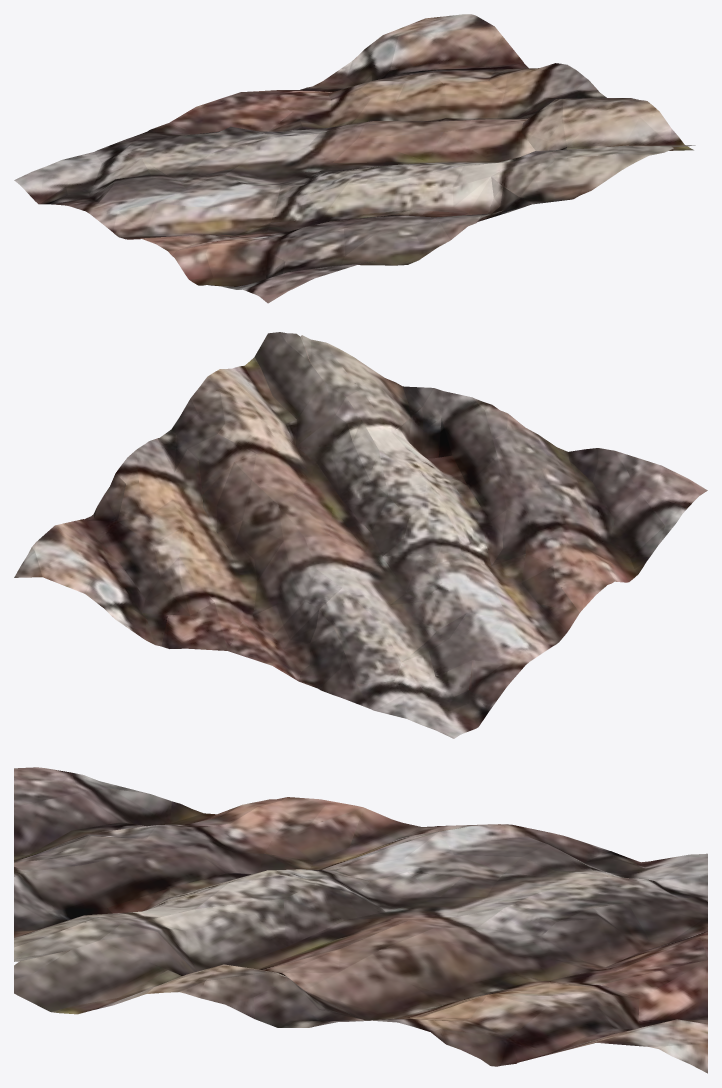
The picture shows the model from 3 angles, top to bottom: view 1: azimuth 30°, elevation 25°; view 2: azimuth 150°, elevation 25°; view 3: azimuth 270°, elevation 25°; orthographic projection. The views are drawn at different scales.
Bounding box in the file's own units: 0.8374 × 0.2281 × 0.8374.
Materials: 3 (3 with a texture image).
